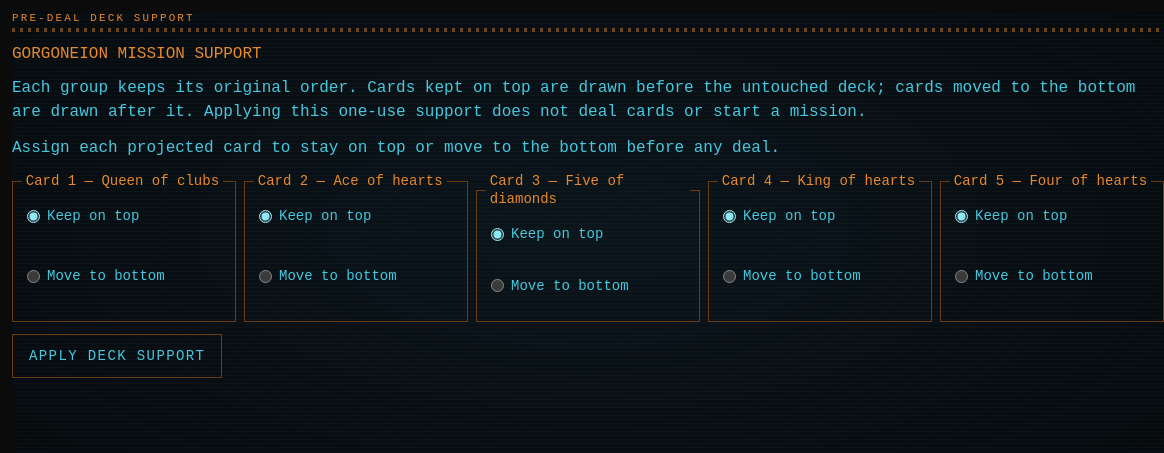
Test case: submits the exact source-order partition and clears the one-use workspace after commit
Click the radio button labelled "Move to bottom" below "Card 2 — Ace of hearts" at (265, 276), box x1=259 y1=270 x2=272 y2=283
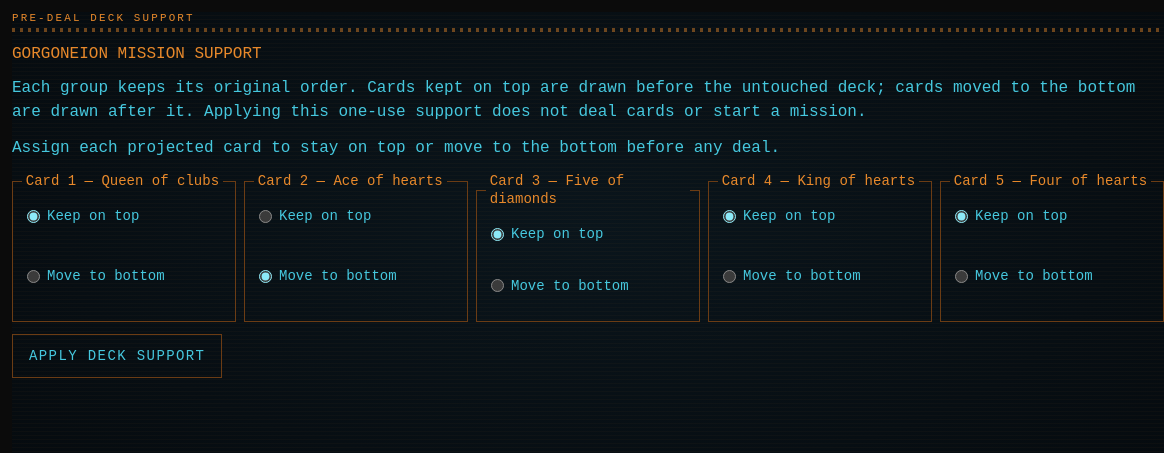
Click the button "Apply deck support" at (117, 356), box x1=12 y1=334 x2=222 y2=378
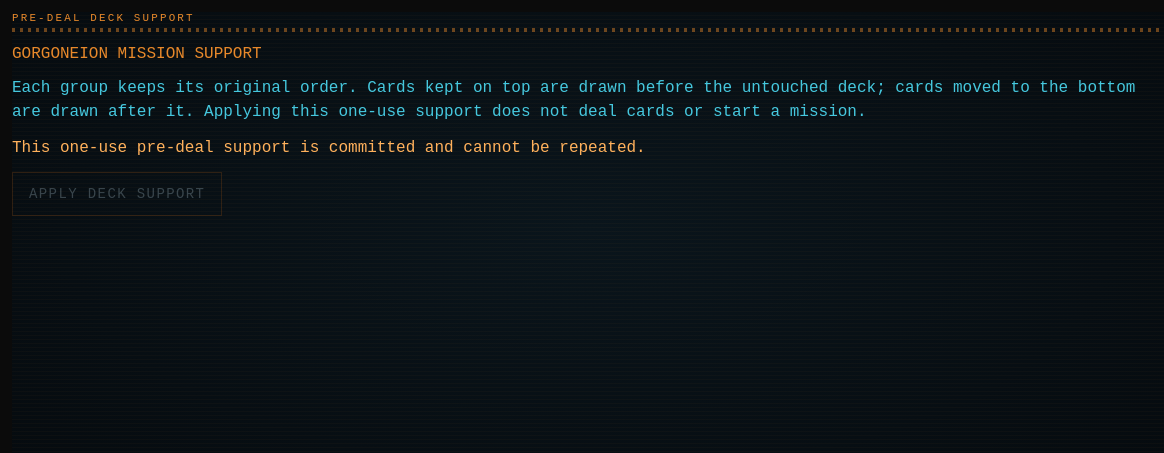
Now the message shows "cannot be repeated", box x1=12 y1=139 x2=646 y2=157
Now the text "Card 2 — Ace of hearts" is gone
